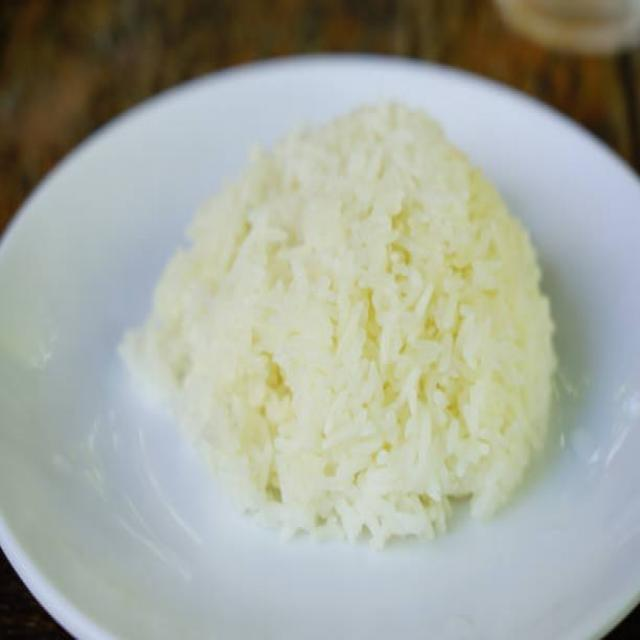Rice: (120, 94, 556, 551)
